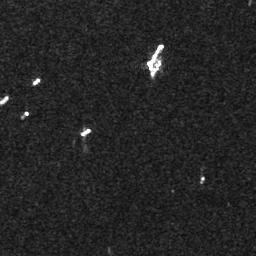ship: (144, 43, 165, 66), (150, 58, 162, 78), (79, 128, 93, 138), (31, 78, 42, 85), (1, 96, 10, 104)
